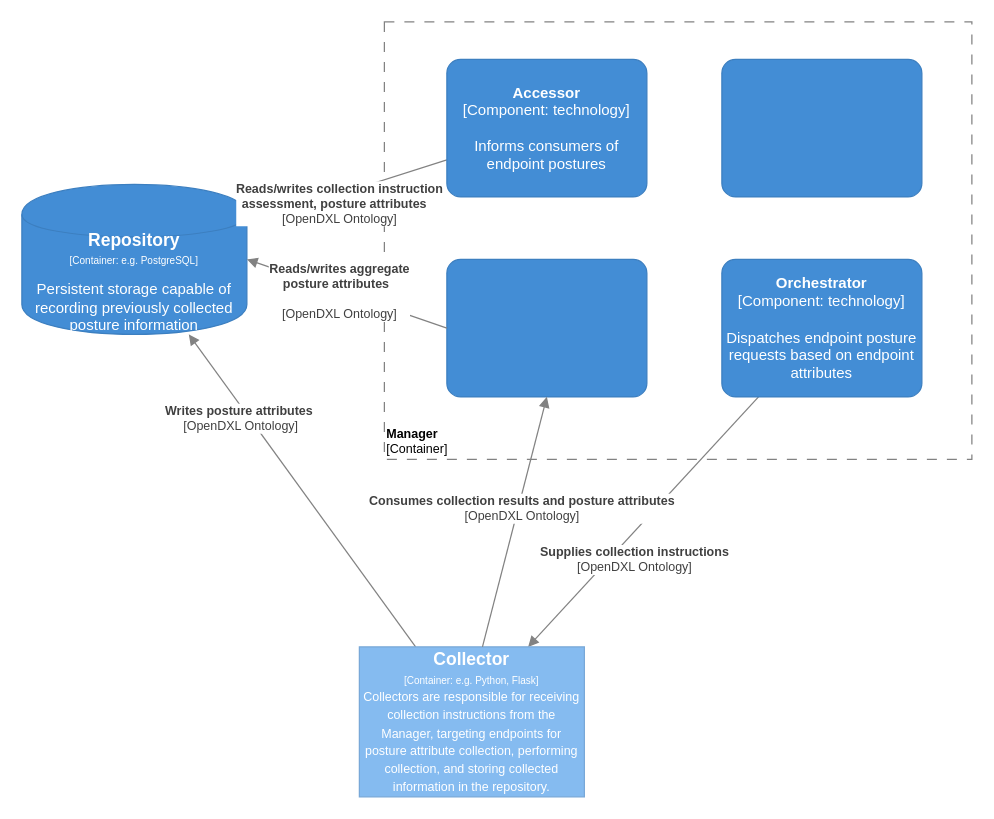
This 994x819 diagram has some shape labels left out. Here are the shapes that lost their labels. From the top down, the centre of each, then its label:
At pixel 821 127: "Health [Component: technology] Endpoint health and activity telemetry".
At pixel 546 327: "Aggregator [Component: technology] Aggregates endpoint postures".
